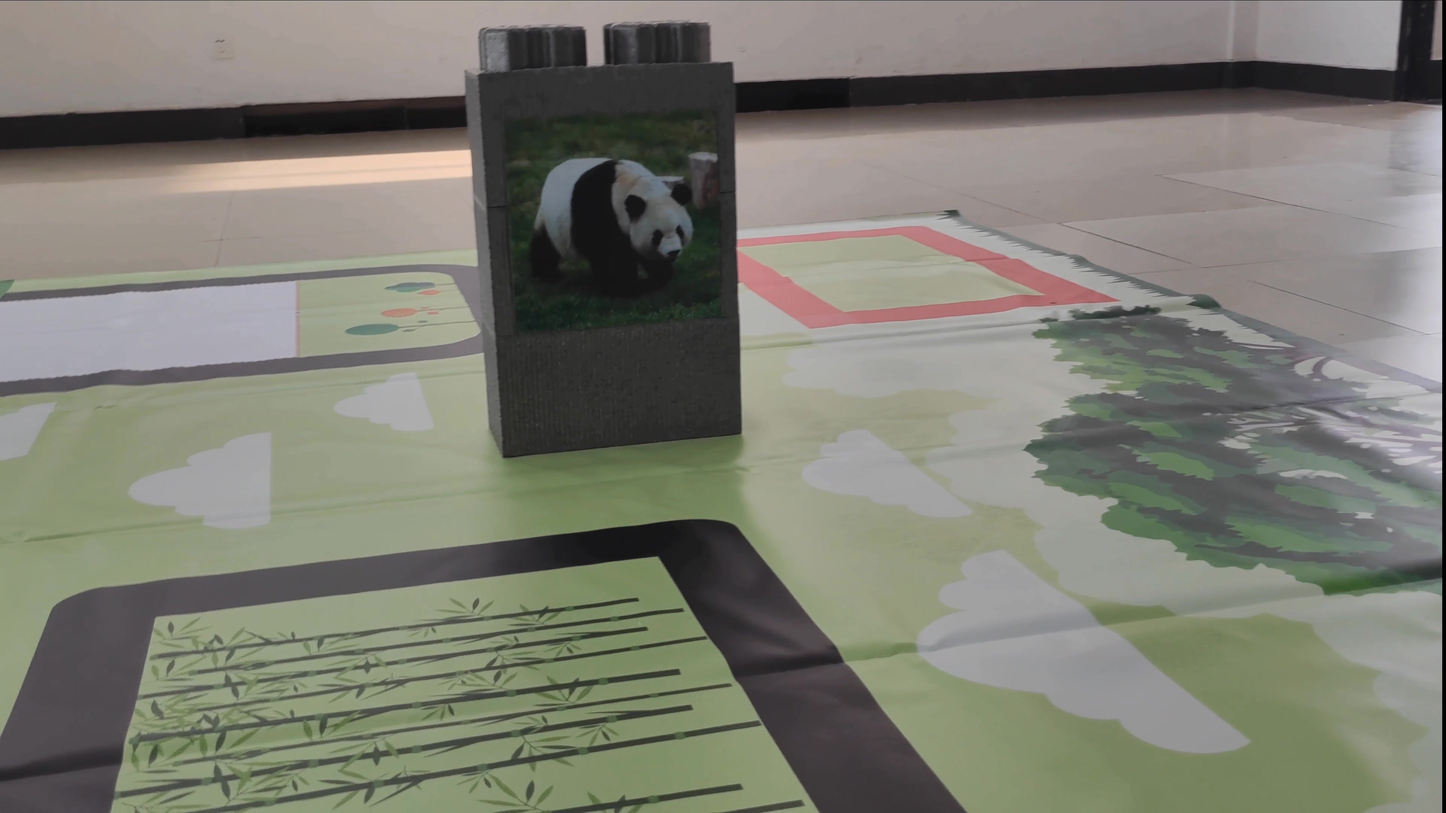panda: (523, 125, 708, 314)
